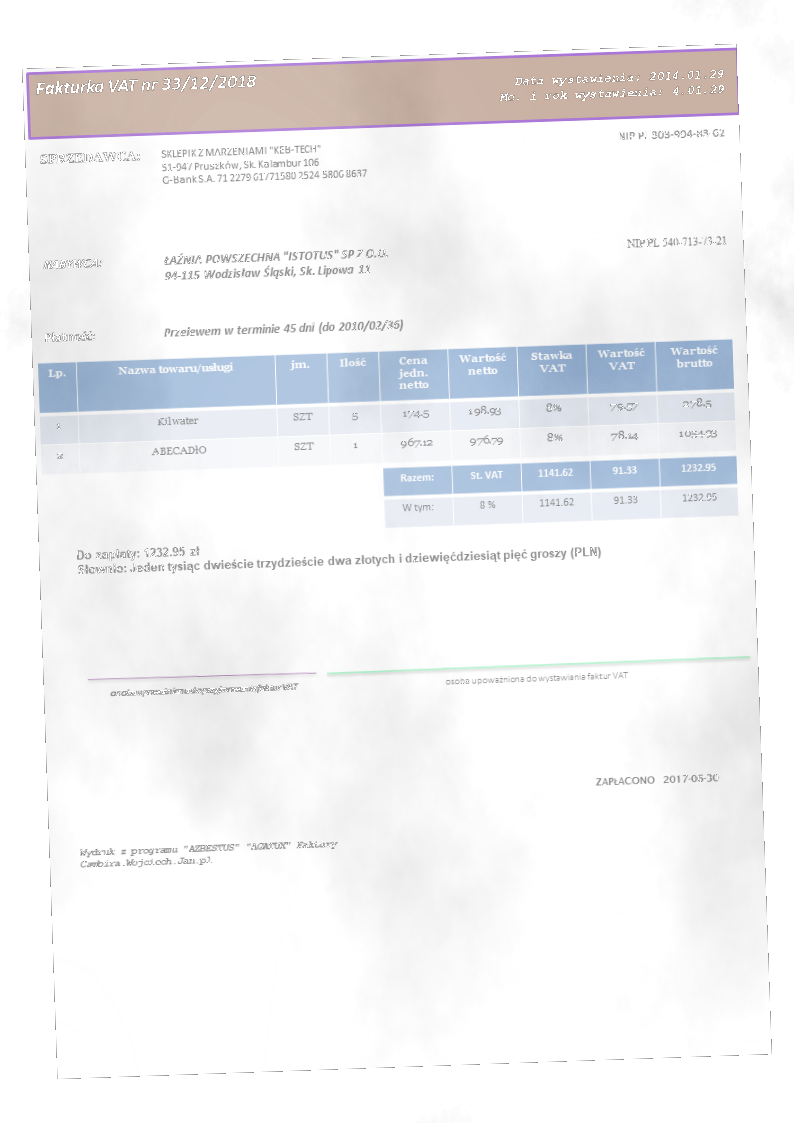Table: (35, 336, 737, 474), (380, 454, 739, 530)
TextBox: (73, 529, 604, 580), (158, 138, 369, 189), (77, 835, 342, 872), (494, 65, 727, 106), (160, 244, 392, 285), (32, 68, 259, 100), (161, 317, 405, 341), (107, 679, 299, 701), (441, 668, 632, 688), (593, 769, 722, 790), (615, 124, 727, 144), (36, 147, 141, 168), (622, 232, 730, 251), (40, 255, 103, 274), (40, 327, 98, 346)
